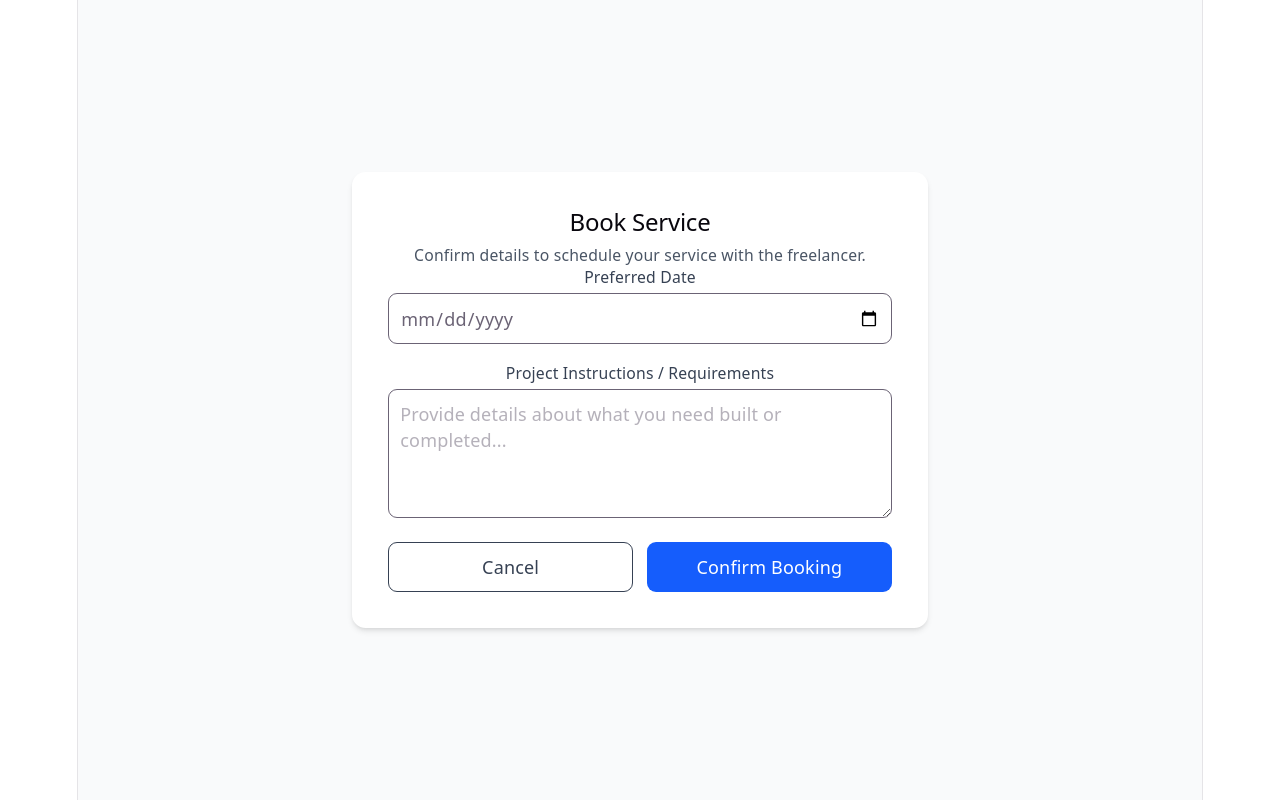
Test case: Booking (wired to the API) › shows the server message when booking is rate limited
In the date field: x=640, y=319 x1=388 y1=293 x2=892 y2=344, type "2026-11-01"
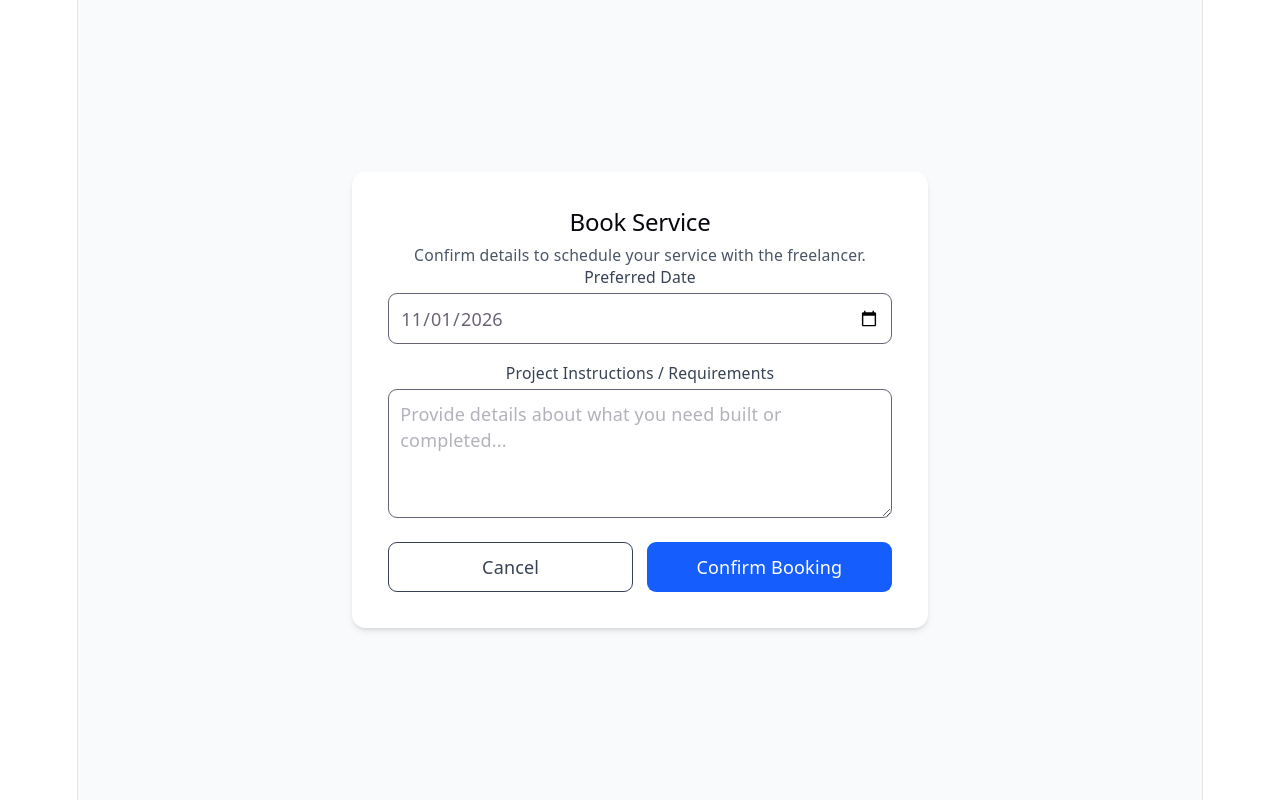
Click the button "Confirm Booking": x=769, y=567 x1=647 y1=542 x2=892 y2=592
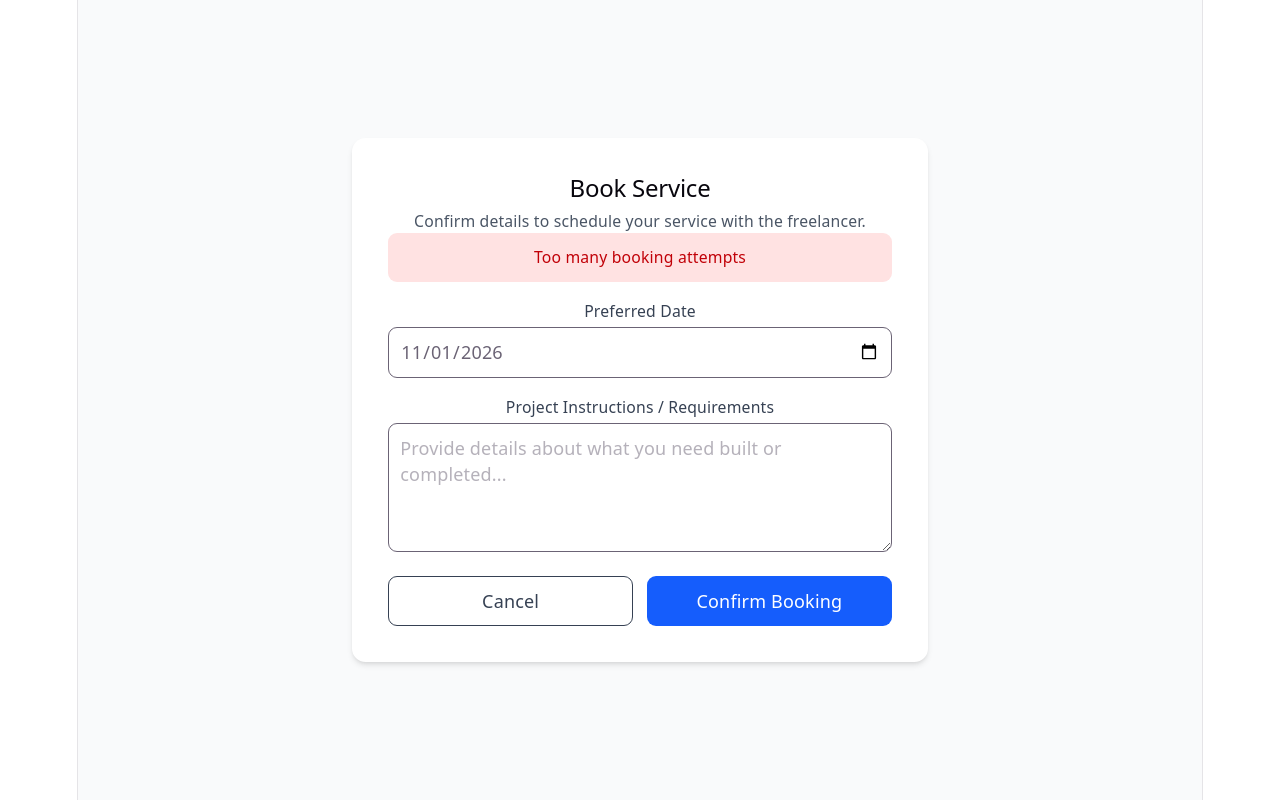
Expected: the message shows "Too many", x1=534 y1=246 x2=746 y2=268
